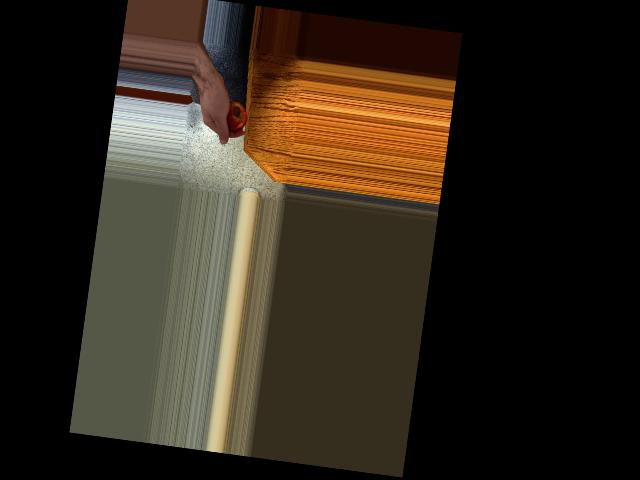apple: (216, 98, 249, 132)
